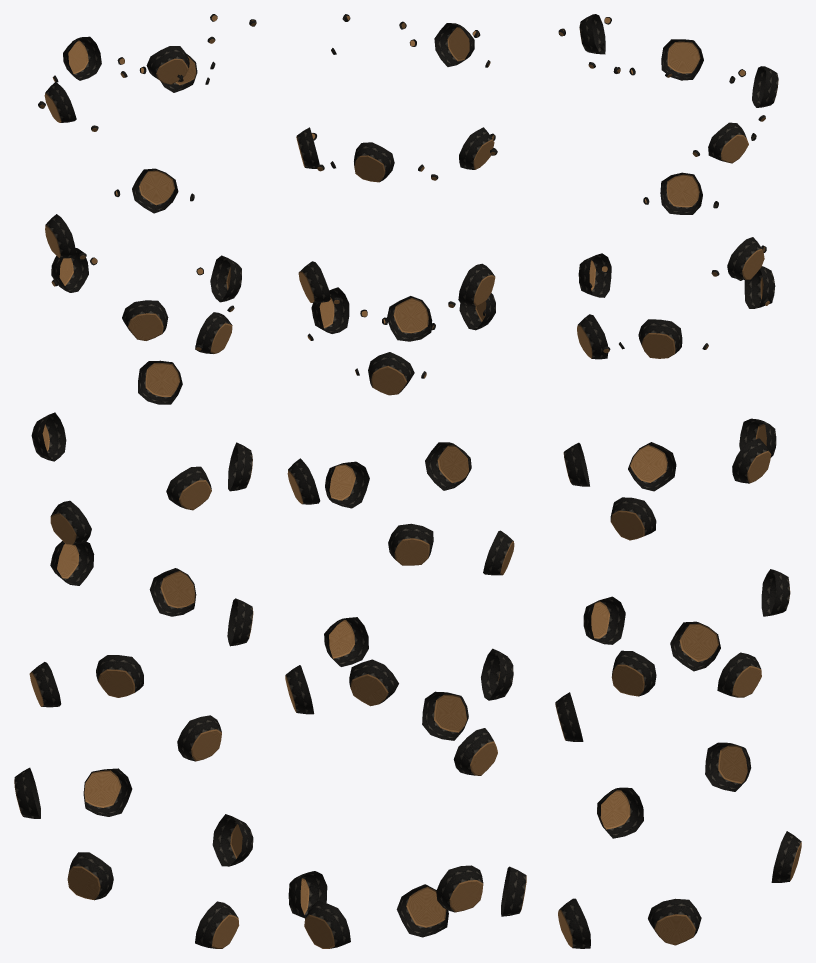
File: Sitka_Mature_01_MediumPruned_Recent_LOD1.fbx
3 renders of one model, left to right at view 1: azimuth 30°, elevation 25°; view 2: azimuth 150°, elevation 25°; view 3: azimuth 270°, elevation 25°, orthographic. The views are drawn at different scales.
Parts seen in each view (by area): view 1: Sitka_Mature_01_MediumPruned_Recent_LOD1_Scars; view 2: Sitka_Mature_01_MediumPruned_Recent_LOD1_Scars; view 3: Sitka_Mature_01_MediumPruned_Recent_LOD1_Scars.
Part boxes in pixels (x1,y1,x2,y2): Sitka_Mature_01_MediumPruned_Recent_LOD1_Scars: (14, 14, 256, 948); Sitka_Mature_01_MediumPruned_Recent_LOD1_Scars: (285, 14, 526, 948); Sitka_Mature_01_MediumPruned_Recent_LOD1_Scars: (555, 14, 801, 948).
Size of what is drawn, in the model's own units: 135 by 563 by 138.
Materials: 2 (2 with a texture image).
